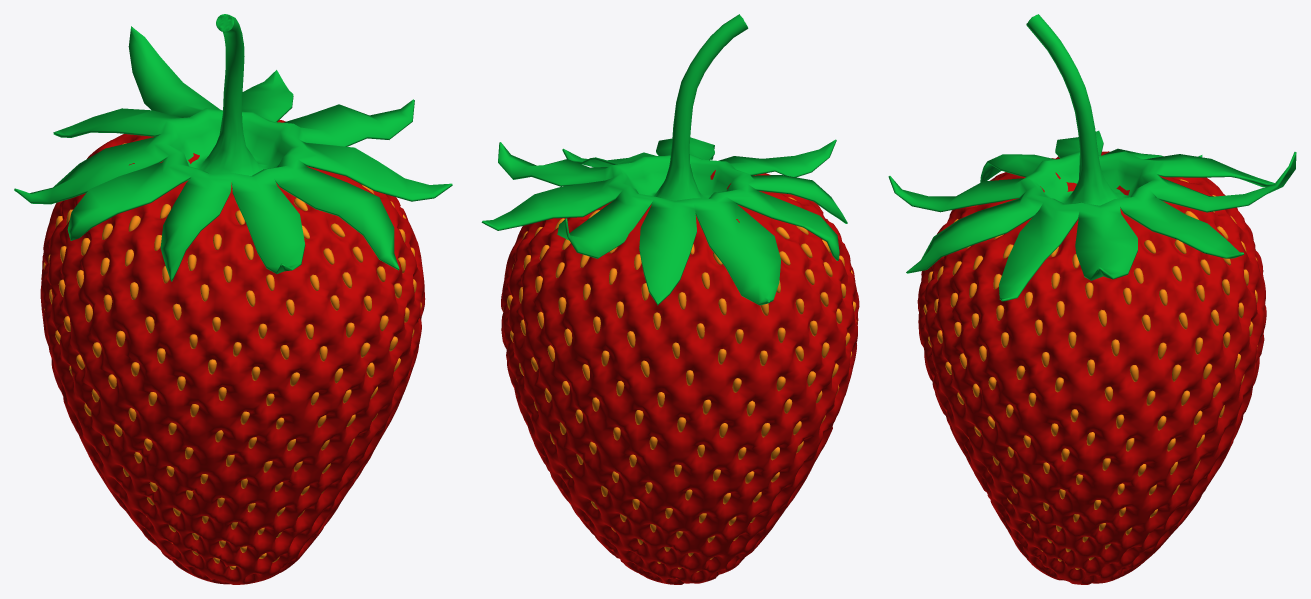
Rendered from Strawberry.glb.
3 views of the same model, side by side, from view 1: azimuth 30°, elevation 25°; view 2: azimuth 150°, elevation 25°; view 3: azimuth 270°, elevation 25° (orthographic). The views are drawn at different scales.
Visible parts, largest first — view 1: TS_Strawberry_001, TS_Strawberry_001_Leaves_mesh; view 2: TS_Strawberry_001, TS_Strawberry_001_Leaves_mesh; view 3: TS_Strawberry_001, TS_Strawberry_001_Leaves_mesh.
Boxes of the visible parts, box(x1,y1,x2,y2) form: TS_Strawberry_001: box(40, 119, 425, 584); TS_Strawberry_001_Leaves_mesh: box(14, 14, 452, 281); TS_Strawberry_001: box(501, 170, 859, 584); TS_Strawberry_001_Leaves_mesh: box(481, 14, 847, 305); TS_Strawberry_001: box(917, 151, 1266, 584); TS_Strawberry_001_Leaves_mesh: box(888, 14, 1296, 301).
Size of the model in its own units: 0.2508 by 0.3998 by 0.2713.
